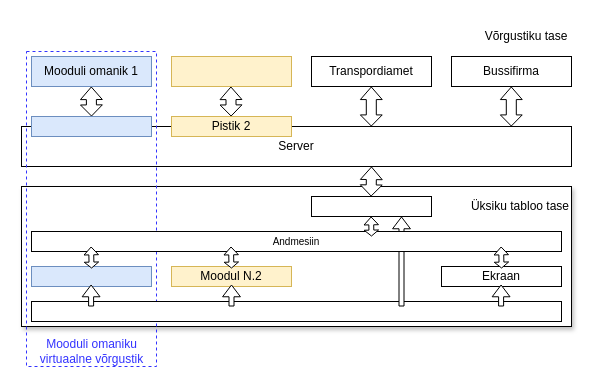
The diagram is 595 pixels wide and 384 high, and some of its shapes have lost their labels. The centre of each missing label's shape, as x and y in pixels:
"Moodul N.1" belongs at point 91,276.
"Mooduli omanik 2" belongs at point 231,71.
"Peakontroller N" belongs at point 371,206.
"Pistik 1" belongs at point 91,126.
"Toide" belongs at point 296,311.
